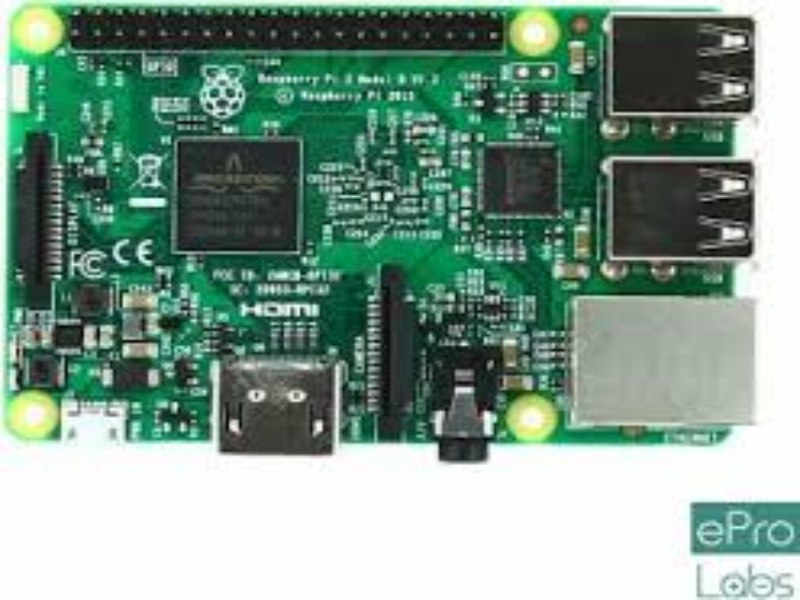raspberrypi: (1, 9, 779, 468)
